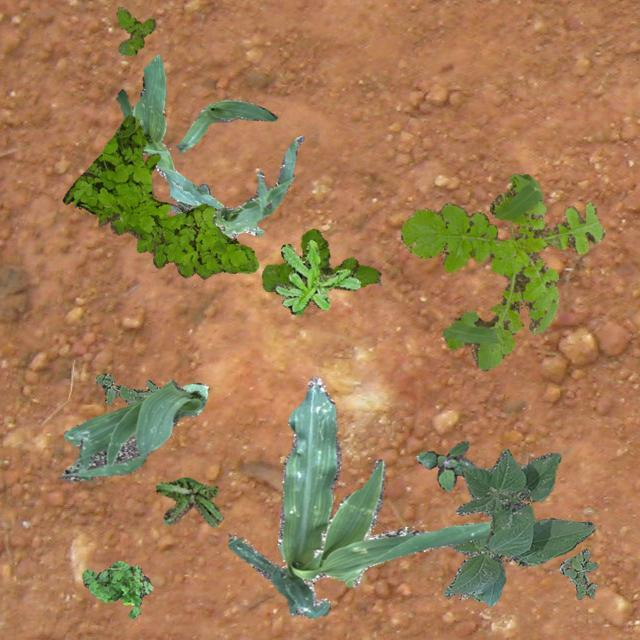crop: (227, 377, 488, 618), (114, 52, 264, 236), (442, 448, 594, 606), (60, 380, 204, 480), (212, 134, 302, 236), (175, 98, 276, 152), (180, 382, 208, 416)
weed: (400, 172, 604, 370), (61, 114, 258, 278), (260, 228, 380, 290), (272, 238, 360, 314), (82, 560, 152, 618), (154, 476, 222, 526), (416, 440, 476, 490), (94, 372, 160, 404), (558, 548, 598, 598), (116, 5, 154, 54), (168, 182, 209, 214)
